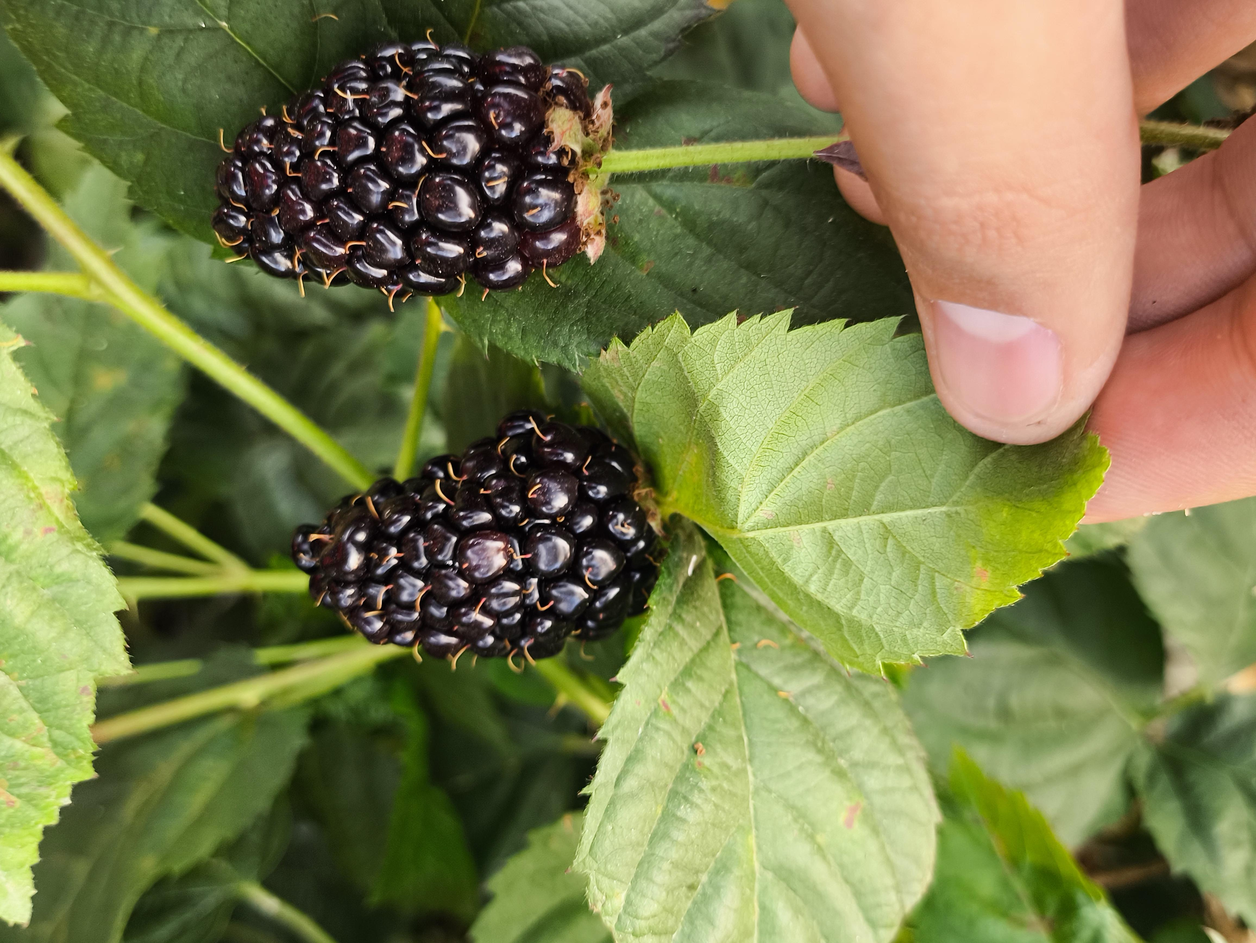maduro: (213, 39, 596, 277), (292, 416, 657, 661)
